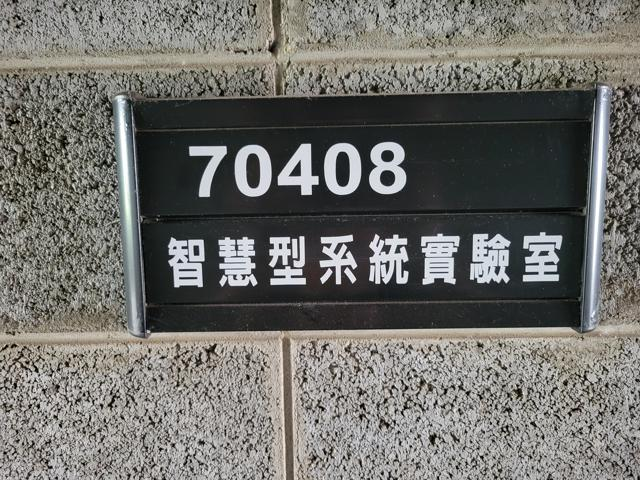doorplate: (97, 83, 621, 344)
